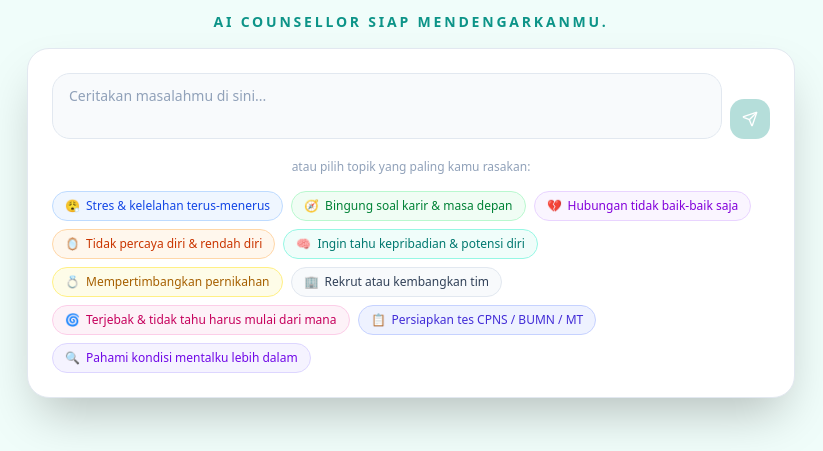
Test: PsikotesDiagnostic › shows loading indicator while waiting for API
The width and height of the screenshot is (823, 451).
Click the text "Stres & kelelahan terus-menerus" at (178, 206), box 86,198 -> 270,214
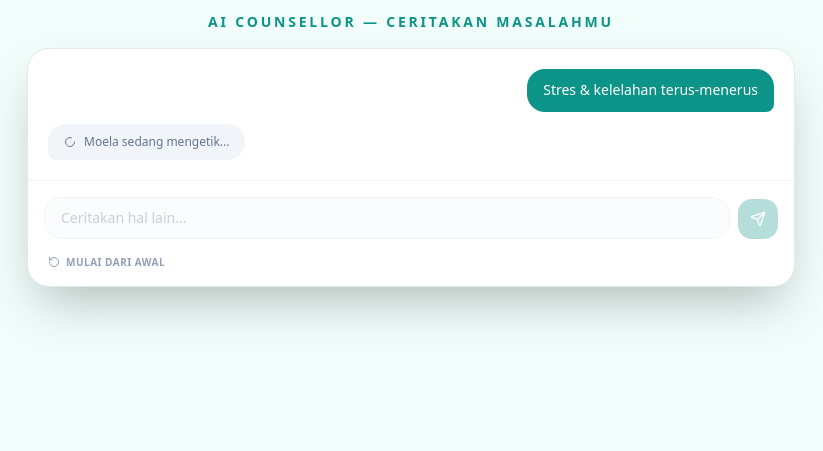
Now the text "Moela sedang mengetik..." is shown, box 48,124 -> 246,160
